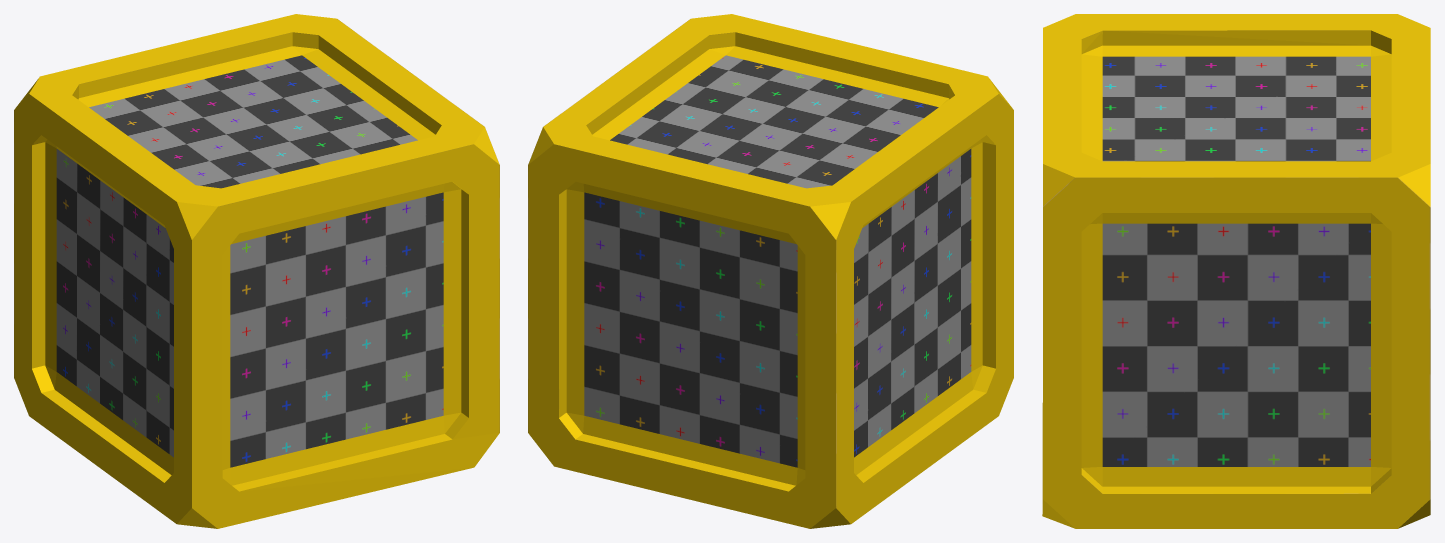
Rendered from Cube_Word_RaidersJ.obj.
The picture shows the model from 3 angles, left to right: view 1: azimuth 30°, elevation 25°; view 2: azimuth 150°, elevation 25°; view 3: azimuth 270°, elevation 25°; orthographic projection. The views are drawn at different scales.
Parts seen in each view (by area): view 1: Cube_Cube.001; view 2: Cube_Cube.001; view 3: Cube_Cube.001.
Part boxes in pixels (left/top/right/bottom): Cube_Cube.001: left=14, top=14, right=499, bottom=528; Cube_Cube.001: left=528, top=14, right=1013, bottom=528; Cube_Cube.001: left=1042, top=14, right=1430, bottom=528.
Bounding box in the file's own units: 2 × 2.01 × 2.
Materials: 1 (1 with a texture image).
